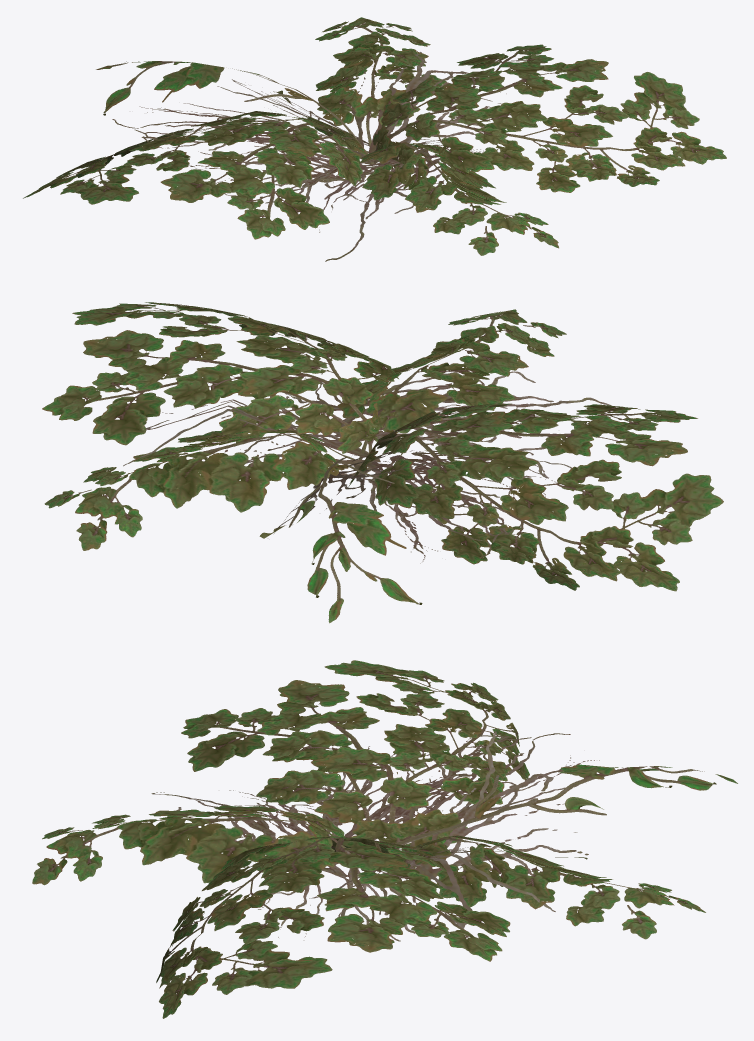
Rendered from SM_Fol_Ivy_Top1.fbx.
The picture shows the model from 3 angles, top to bottom: view 1: azimuth 30°, elevation 25°; view 2: azimuth 150°, elevation 25°; view 3: azimuth 270°, elevation 25°; orthographic projection. The views are drawn at different scales.
Visible parts, largest first — view 1: SM_Fol_Ivy_Top1_LOD0; view 2: SM_Fol_Ivy_Top1_LOD0; view 3: SM_Fol_Ivy_Top1_LOD0.
Part boxes in pixels (box(x1,y1,x2,y2)): SM_Fol_Ivy_Top1_LOD0: box(23, 17, 726, 261); SM_Fol_Ivy_Top1_LOD0: box(42, 302, 723, 623); SM_Fol_Ivy_Top1_LOD0: box(32, 660, 737, 1018).
Bounding box in the file's own units: 216 × 186 × 35.79.
1 material, 1 textured.
